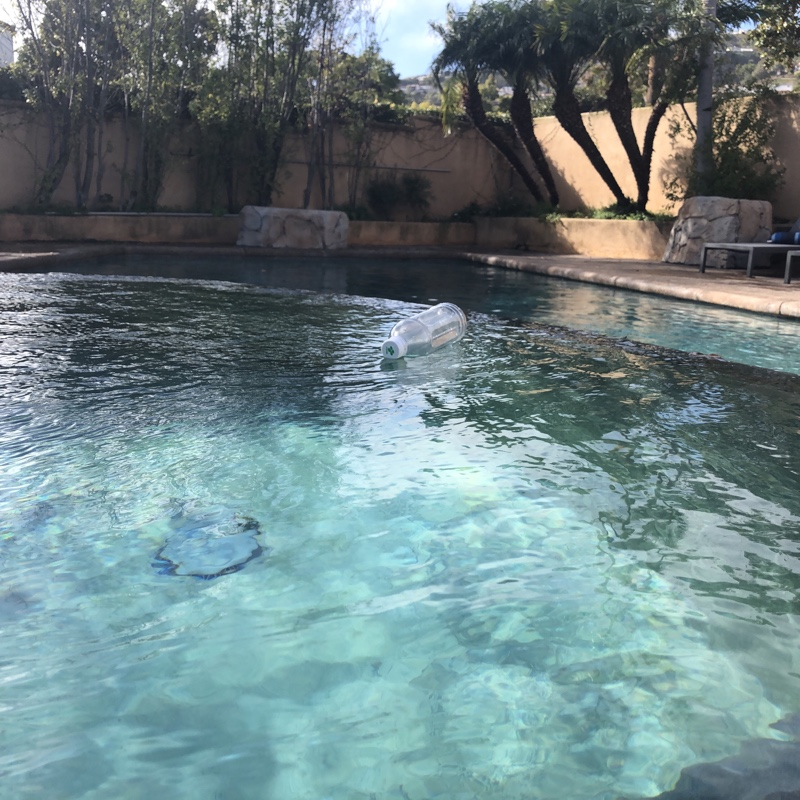Plastic Bottle: (377, 300, 470, 362)
